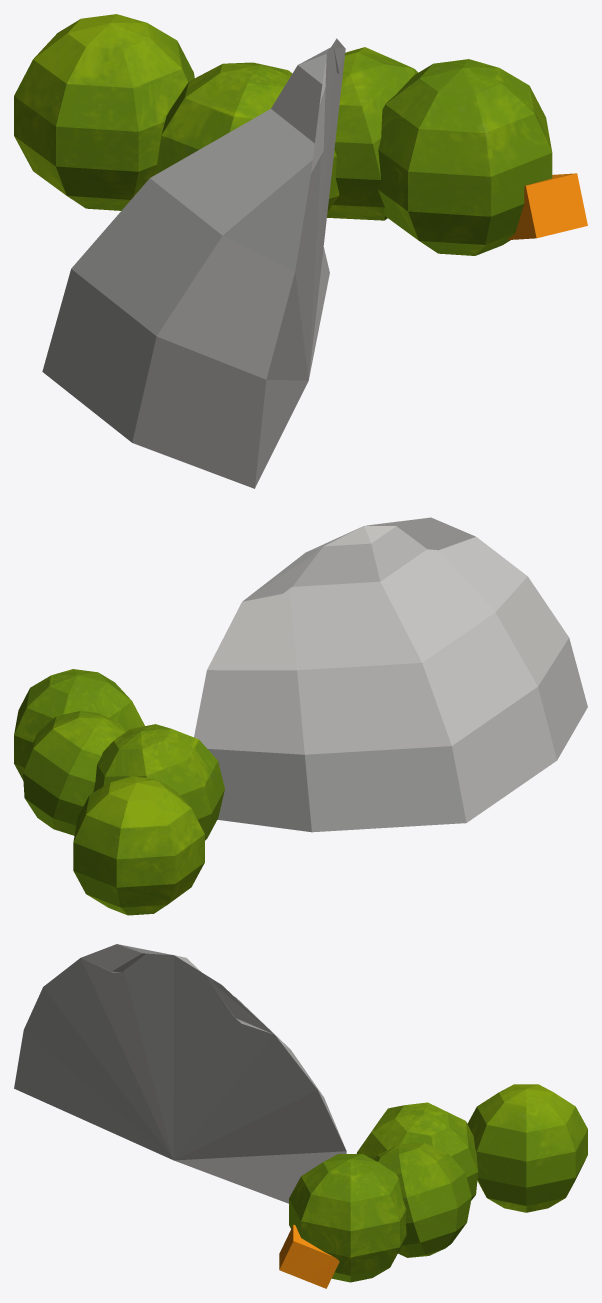
File: alverja2.glb
3 views of the same model, one above another, from view 1: azimuth 30°, elevation 25°; view 2: azimuth 150°, elevation 25°; view 3: azimuth 270°, elevation 25° (orthographic). The views are drawn at different scales.
Parts seen in each view (by area): view 1: Arroz, polySurface8, polySurface4, polySurface7, polySurface2, polySurface37; view 2: Arroz, polySurface4, polySurface7, polySurface2, polySurface8; view 3: Arroz, polySurface4, polySurface8, polySurface7, polySurface2, polySurface37.
Boxes of the visible parts, bbox=[...] form: Arroz: bbox=[42, 38, 345, 488]; polySurface8: bbox=[378, 59, 552, 255]; polySurface4: bbox=[14, 14, 194, 210]; polySurface7: bbox=[327, 47, 418, 220]; polySurface2: bbox=[155, 62, 339, 211]; polySurface37: bbox=[507, 173, 587, 240]; Arroz: bbox=[194, 517, 587, 832]; polySurface4: bbox=[73, 776, 204, 915]; polySurface7: bbox=[23, 711, 125, 835]; polySurface2: bbox=[93, 724, 224, 840]; polySurface8: bbox=[14, 669, 144, 780]; Arroz: bbox=[14, 944, 346, 1203]; polySurface4: bbox=[467, 1084, 587, 1212]; polySurface8: bbox=[289, 1154, 406, 1282]; polySurface7: bbox=[374, 1143, 471, 1257]; polySurface2: bbox=[356, 1102, 478, 1200]; polySurface37: bbox=[279, 1224, 339, 1288].
Bounding box in the file's own units: 0.9501 × 0.5537 × 1.23.
Materials: 3 (3 with a texture image).
